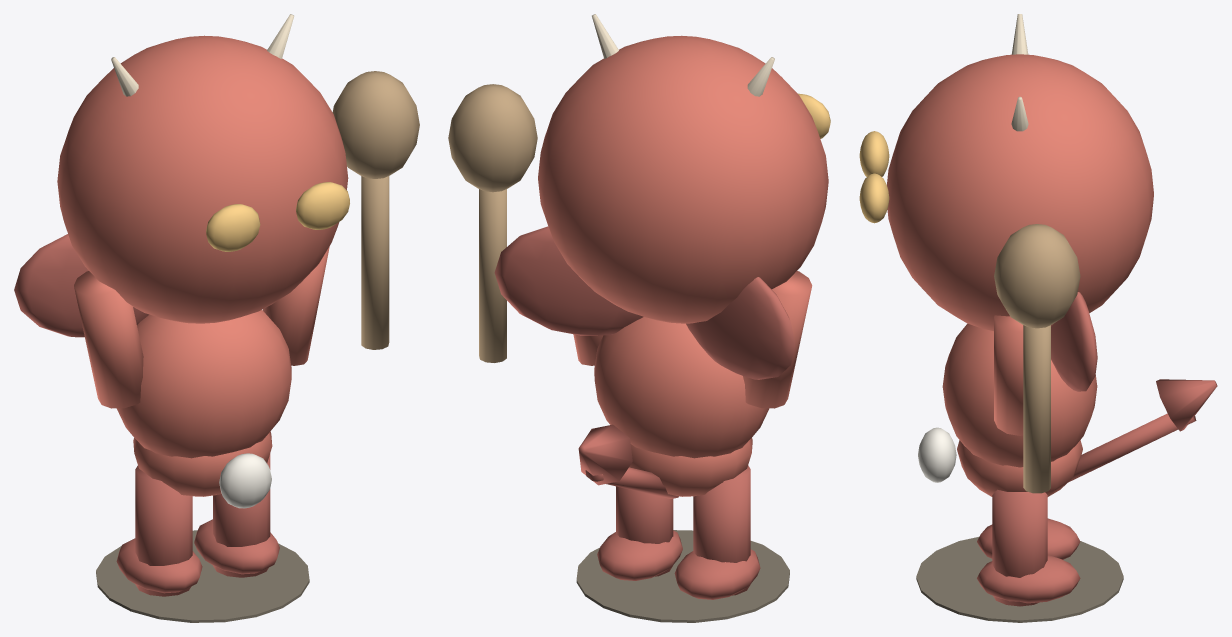
Rendered from imp.fbx.
3 views of the same model, side by side, from view 1: azimuth 30°, elevation 25°; view 2: azimuth 150°, elevation 25°; view 3: azimuth 270°, elevation 25° (orthographic). The views are drawn at different scales.
Parts seen in each view (by area): view 1: CH_imp; view 2: CH_imp; view 3: CH_imp.
Part boxes in pixels (<box>): CH_imp: <box>14,14,419,622</box>; CH_imp: <box>448,14,830,622</box>; CH_imp: <box>859,14,1217,622</box>.
Bounding box in the file's own units: 47.82 × 67.26 × 41.4.
